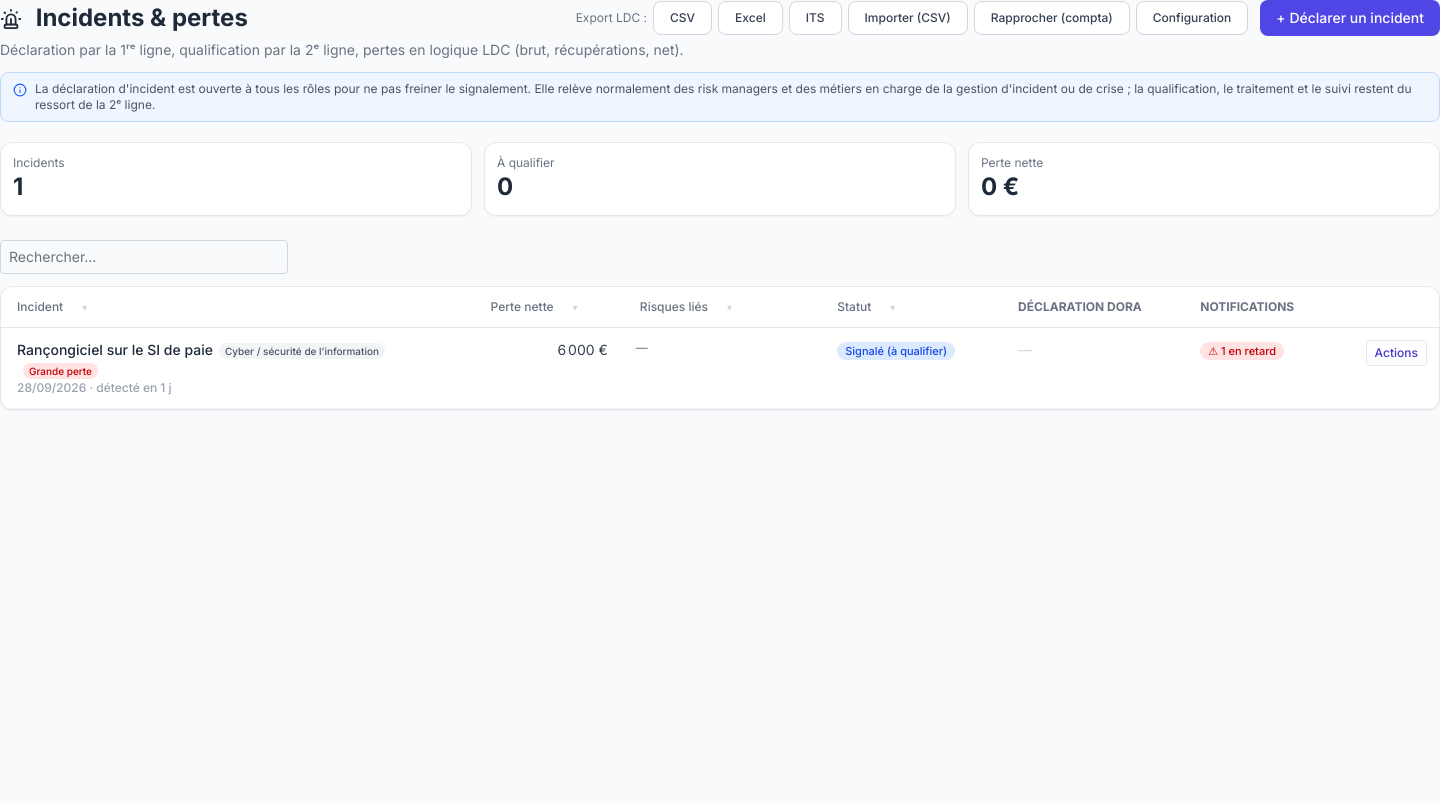
IncidentsManager — lot L1 › la configuration n’est proposée qu’à l’administrateur
expect the text "Rançongiciel sur le SI de paie" is shown: met, box [17,341,213,358]
Click the button "Configuration" at (1192, 18), box [1136,1,1248,35]
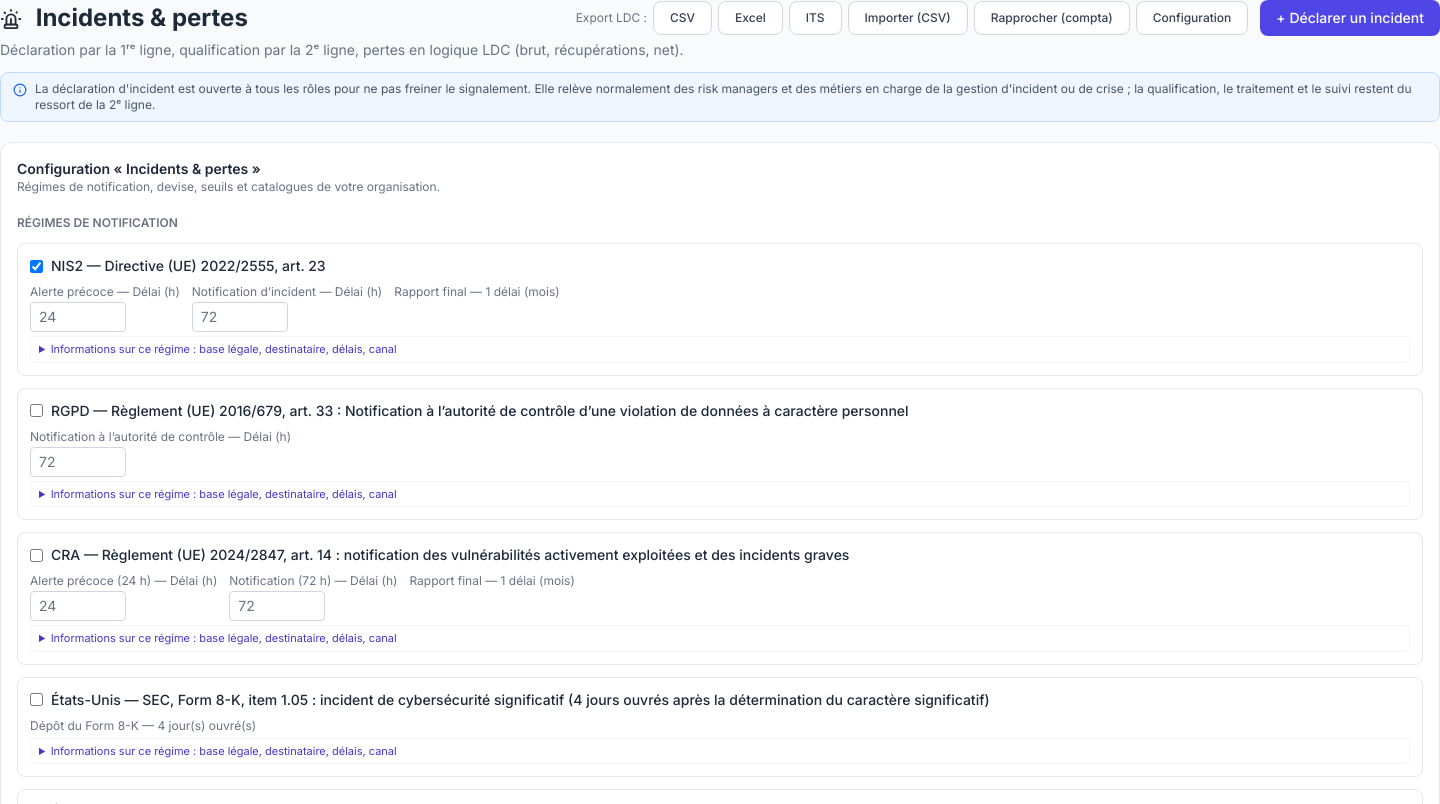
expect the heading "Configuration « Incidents & pertes »" is shown: met, box [17,160,261,177]
